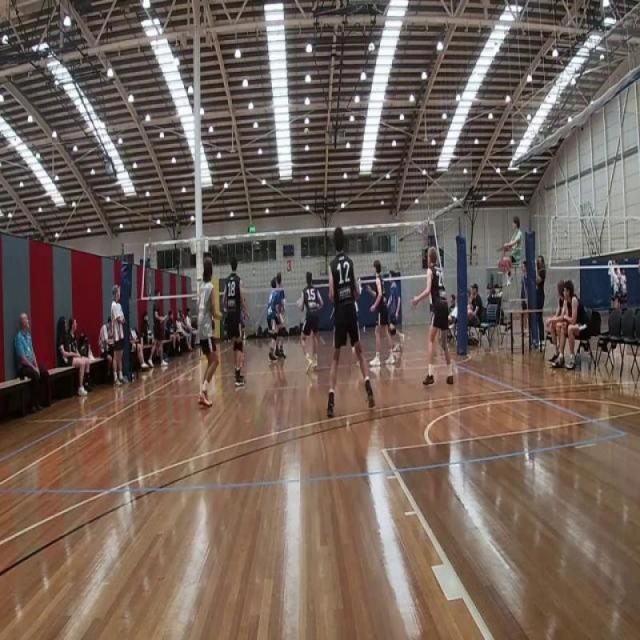volleyball: (303, 128, 310, 138)
